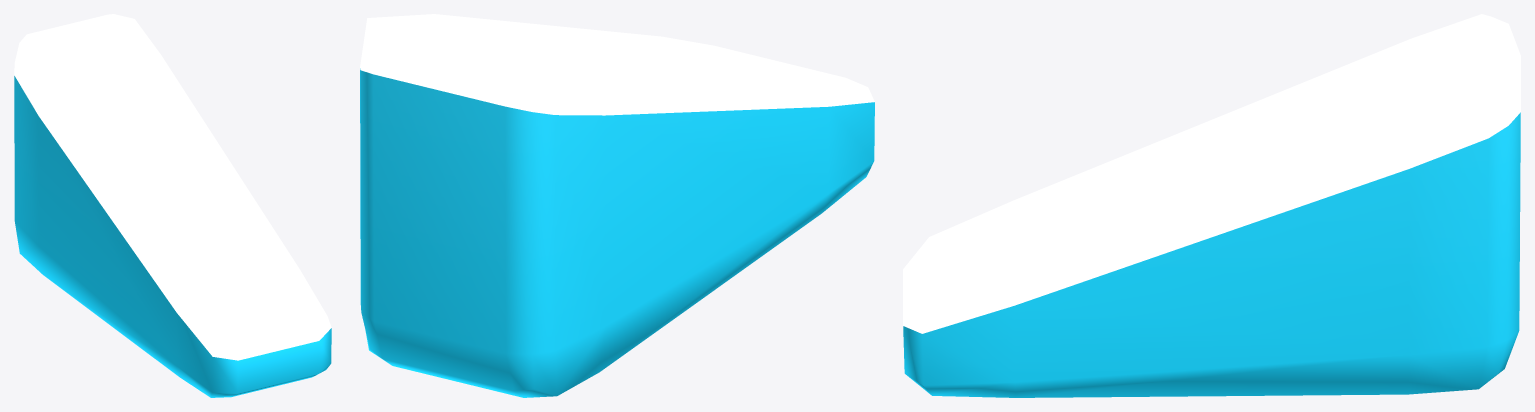
The model's file is railing_001.glb.
3 views of the same model, side by side, from view 1: azimuth 30°, elevation 25°; view 2: azimuth 150°, elevation 25°; view 3: azimuth 270°, elevation 25° (orthographic). The views are drawn at different scales.
Parts seen in each view (by area): view 1: railing_001; view 2: railing_001; view 3: railing_001.
Part boxes in pixels (x1,y1,x2,y2): railing_001: (14, 14, 331, 397); railing_001: (360, 14, 874, 397); railing_001: (903, 14, 1520, 397).
Bounding box in the file's own units: 1.02 × 1.69 × 3.
2 materials, 2 textured.
